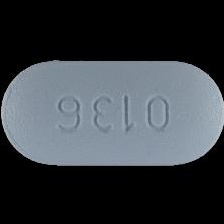50268-467: (0, 0, 224, 224)
